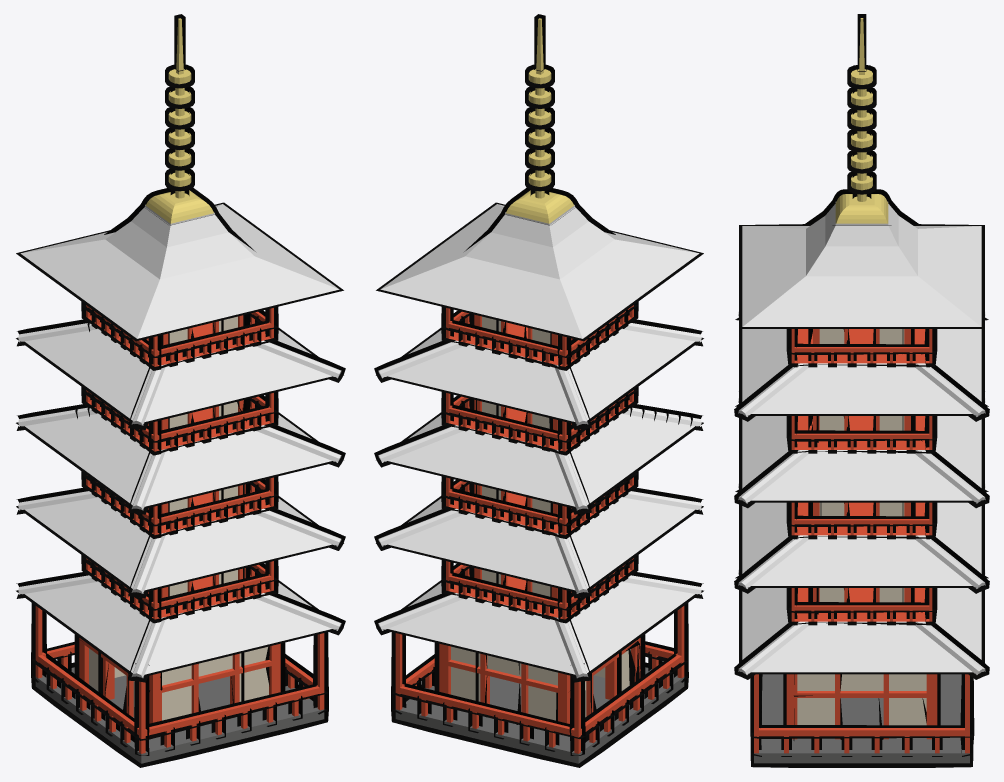
File: pagoda.fbx
3 renders of one model, left to right at view 1: azimuth 30°, elevation 25°; view 2: azimuth 150°, elevation 25°; view 3: azimuth 270°, elevation 25°, orthographic. The views are drawn at different scales.
Parts seen in each view (by area): view 1: pagoda, outline; view 2: pagoda, outline; view 3: pagoda, outline.
Boxes of the visible parts, left/top/right/bottom form: pagoda: left=18, top=18, right=341, bottom=763; outline: left=16, top=14, right=345, bottom=767; pagoda: left=378, top=18, right=701, bottom=763; outline: left=374, top=14, right=703, bottom=767; pagoda: left=738, top=18, right=985, bottom=763; outline: left=734, top=14, right=989, bottom=767.
Size of the model in its own units: 1495 by 4556 by 1495.
